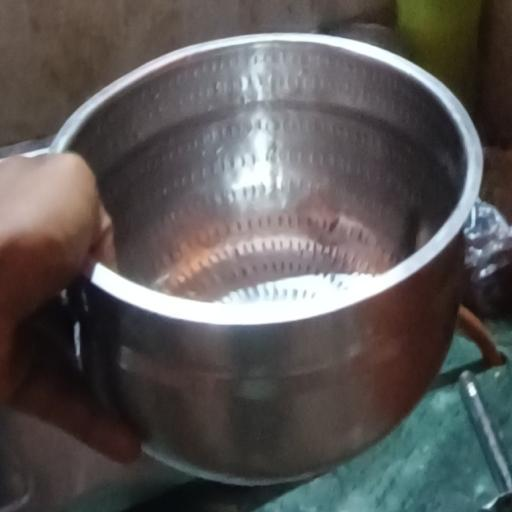vessel: (53, 35, 481, 483)
